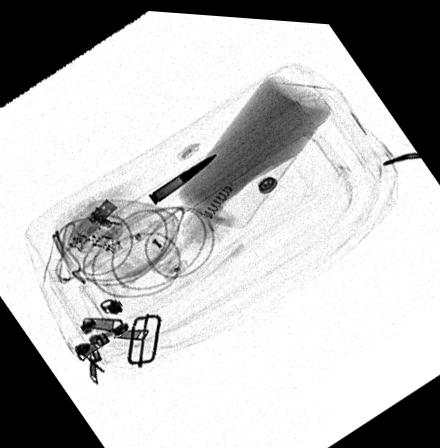Bullet: (148, 148, 219, 204)
